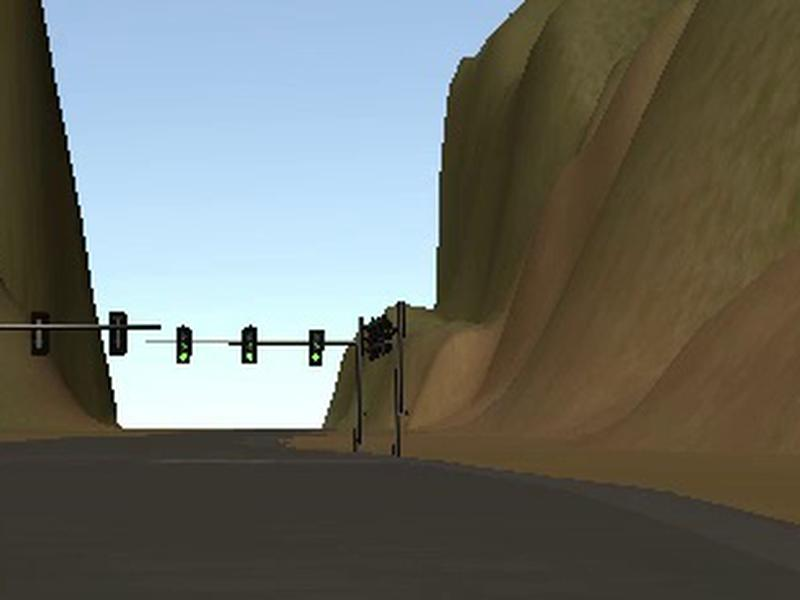Green: (175, 326, 193, 363), (308, 329, 324, 366), (241, 326, 256, 363)
